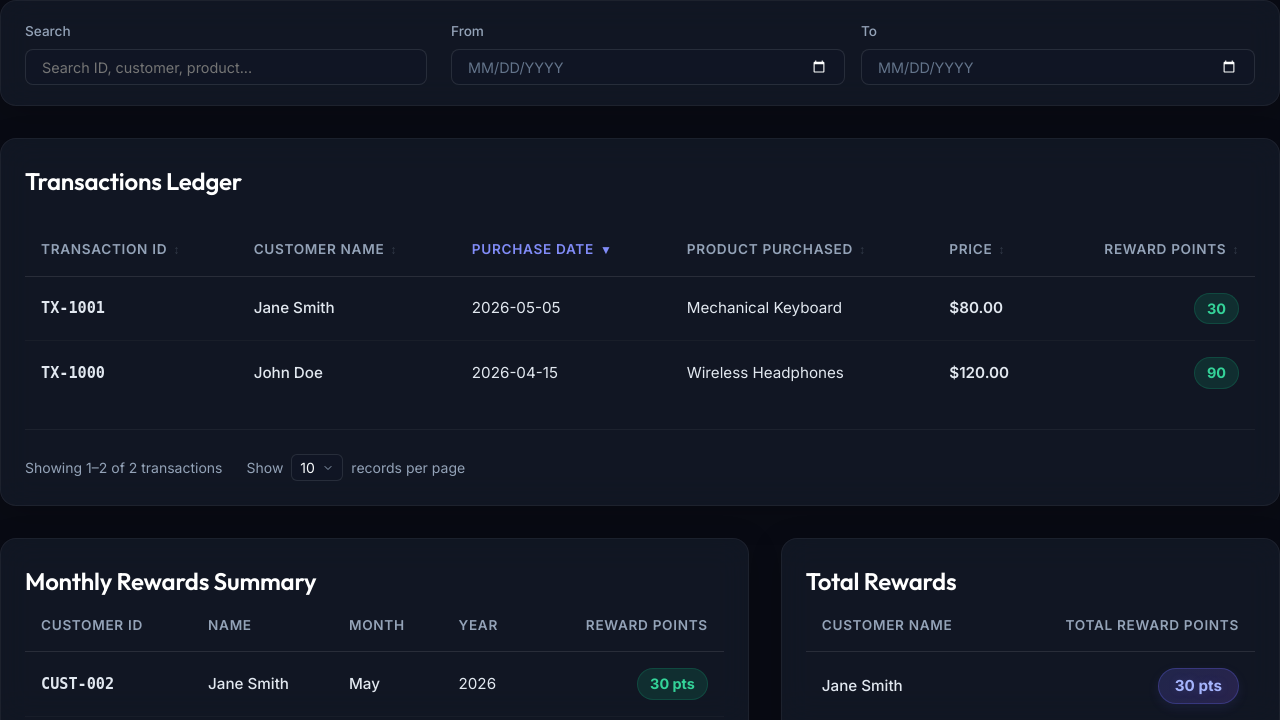
DashboardContent Component › clears active filters when clear button is clicked
The image size is (1280, 720).
Type "wireless" into the field with test id "search-input". click: [226, 67]
box: [25, 49, 427, 85]
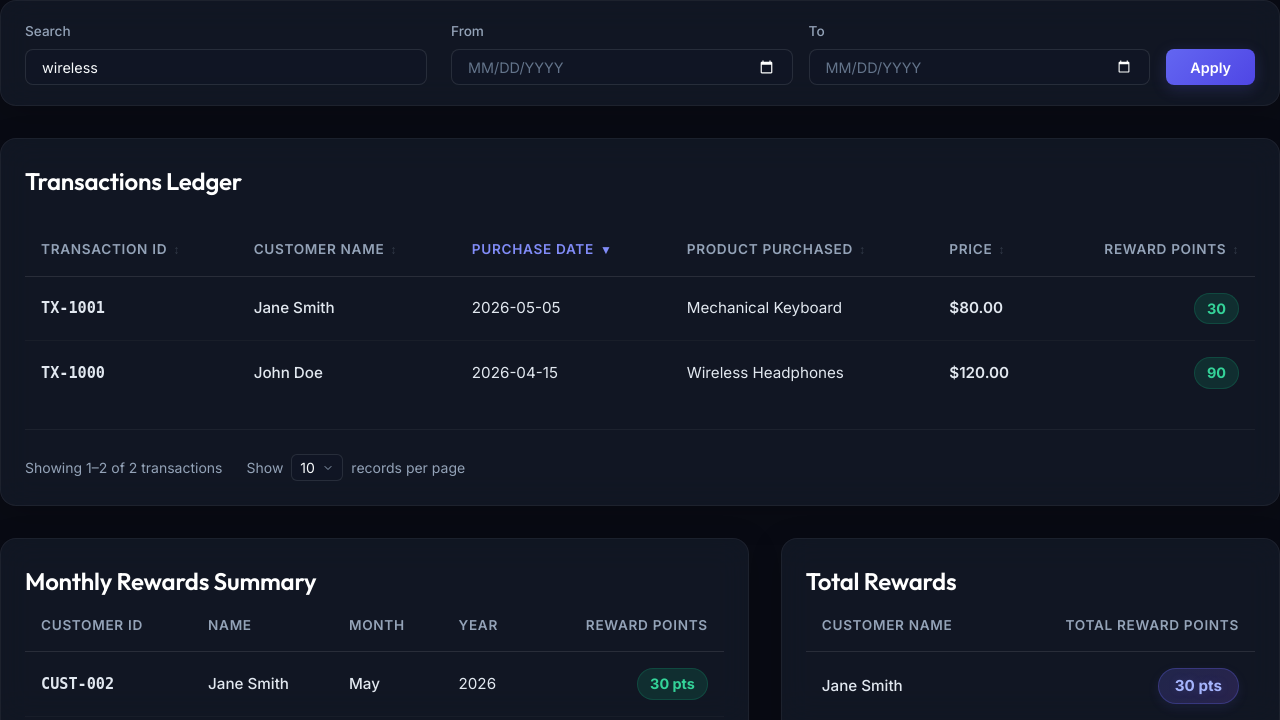
Click the button with test id "apply-filters-btn". click: [1211, 67]
box: [1166, 49, 1255, 85]
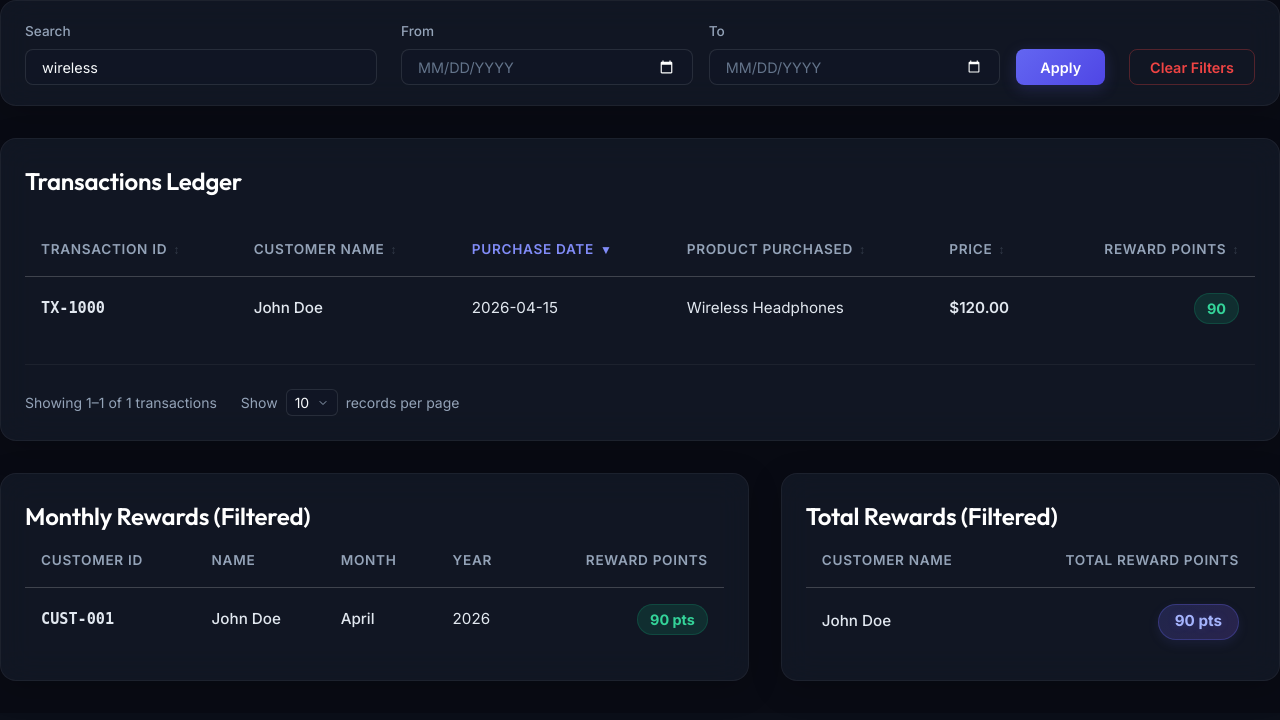
Check: the text "Wireless Headphones" is shown, box [671, 276, 933, 340]
Check: the text "Mechanical Keyboard" is gone
Click the button with test id "clear-filters-btn". click: [1192, 67]
box: [1129, 49, 1255, 85]
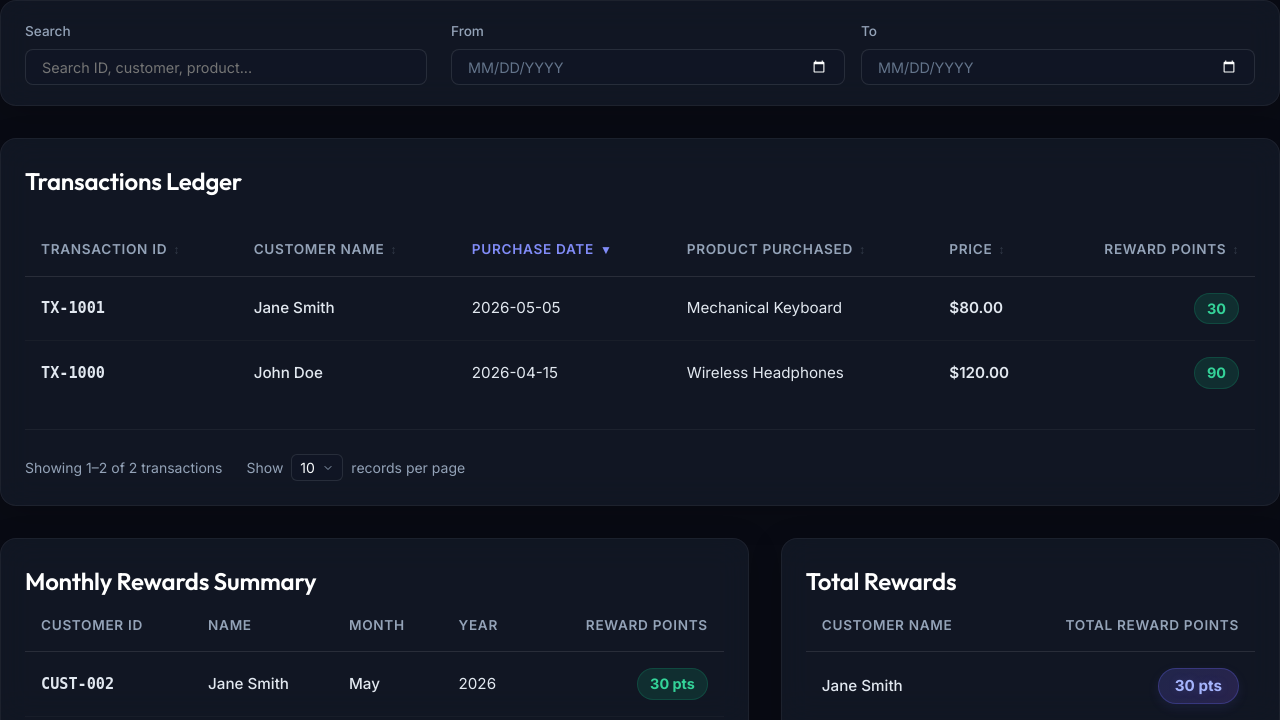
Check: the text "Wireless Headphones" is shown, box [671, 341, 933, 405]
Check: the text "Mechanical Keyboard" is shown, box [671, 276, 933, 341]
